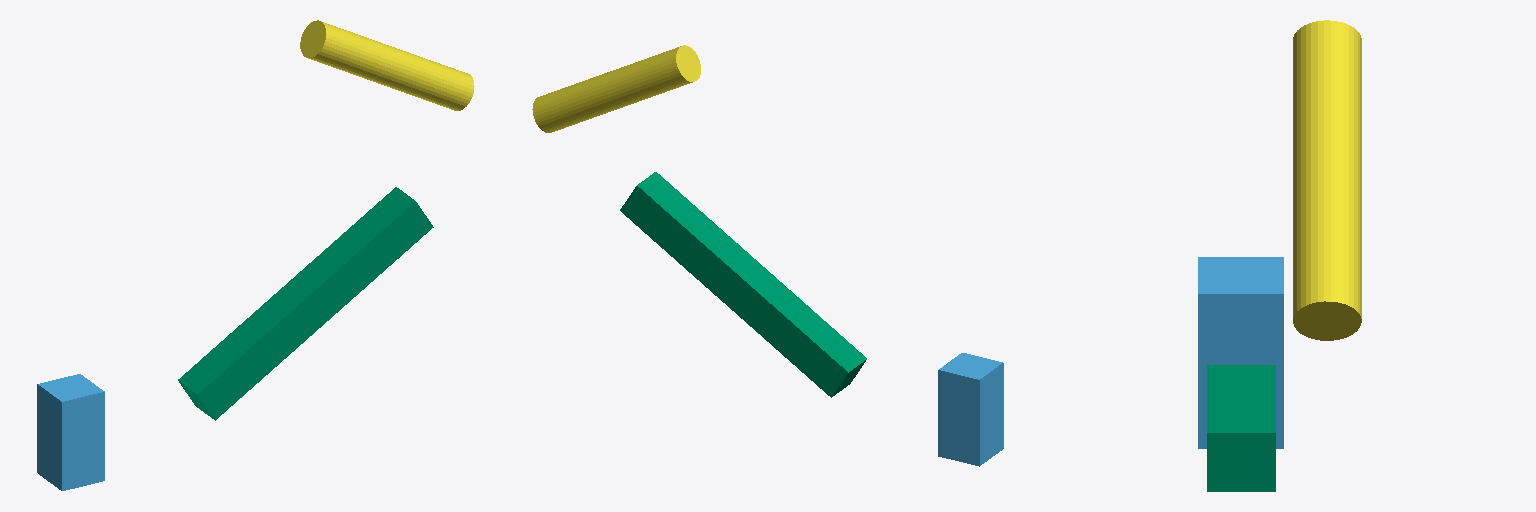
URDF robot description (offset_zero_limits):
<?xml version="1.0"?>
<!-- A robot whose zero configuration is outside its own joint limits.

     joint_b's range is [-2.0, -0.1]: q = 0 is not reachable, exactly as on a
     KUKA quantec, whose A2 axis is limited to [-140 deg, -5 deg]. The rig's
     rest pose is still URDF FK at q = 0, so a limit constraint moves the bones
     off it the moment the depsgraph runs, and every link past joint_b has to
     travel with them.

     The visuals carry non-zero origins so a placement that quietly resolved
     against the posed bone instead of the rest one lands somewhere provable.

     base -(rev Z, +0.5z)- link_a -(rev Y, +0.4x)- link_b -(rev Y, +0.6x)- link_c -->
<robot name="offset_zero_limits">
  <link name="base"/>

  <link name="link_a">
    <visual>
      <origin xyz="0 0 0.1" rpy="0 0 0"/>
      <geometry><box size="0.1 0.1 0.2"/></geometry>
    </visual>
  </link>

  <link name="link_b">
    <visual>
      <origin xyz="0.3 0 0" rpy="0 0.5 0"/>
      <geometry><box size="0.6 0.08 0.08"/></geometry>
    </visual>
  </link>

  <link name="link_c">
    <visual>
      <origin xyz="0.2 0.1 0" rpy="0 0 0.3"/>
      <geometry><cylinder radius="0.04" length="0.4"/></geometry>
    </visual>
  </link>

  <joint name="joint_a" type="revolute">
    <parent link="base"/><child link="link_a"/>
    <origin xyz="0 0 0.5" rpy="0 0 0"/>
    <axis xyz="0 0 1"/>
    <limit lower="-1.5" upper="1.5" effort="10" velocity="1"/>
  </joint>

  <!-- The whole point of this fixture: zero is not in [lower, upper]. -->
  <joint name="joint_b" type="revolute">
    <parent link="link_a"/><child link="link_b"/>
    <origin xyz="0.4 0 0" rpy="0 0 0"/>
    <axis xyz="0 1 0"/>
    <limit lower="-2.0" upper="-0.1" effort="10" velocity="1"/>
  </joint>

  <joint name="joint_c" type="revolute">
    <parent link="link_b"/><child link="link_c"/>
    <origin xyz="0.6 0 0" rpy="0 0 0"/>
    <axis xyz="0 1 0"/>
    <limit lower="-1.0" upper="1.0" effort="10" velocity="1"/>
  </joint>
</robot>

--- Render facts (derived) ---
Views: 3 orthographic renders of the robot side by side, from view 1: azimuth 30°, elevation 25°; view 2: azimuth 150°, elevation 25°; view 3: azimuth 270°, elevation 25°.
Model offset_zero_limits with 4 links and 3 joints (3 revolute), rooted at base, posed joints at zero except 1 at the middle of their limits (joint_b = -1.05).
Visible links, largest first — view 1: link_b, link_a, link_c; view 2: link_b, link_a, link_c; view 3: link_c, link_a, link_b.
Boxes of the visible links, <box> form: link_b: <box>178,187,433,420</box>; link_a: <box>37,374,104,490</box>; link_c: <box>300,20,474,110</box>; link_b: <box>620,172,866,397</box>; link_a: <box>938,353,1003,466</box>; link_c: <box>532,45,700,132</box>; link_c: <box>1293,20,1361,340</box>; link_a: <box>1198,257,1283,448</box>; link_b: <box>1207,365,1275,491</box>.
Size in the robot's own frame: 1.04 by 0.1898 by 0.828 metres.
Geometry: primitives only (box / cylinder / sphere), no mesh files.
